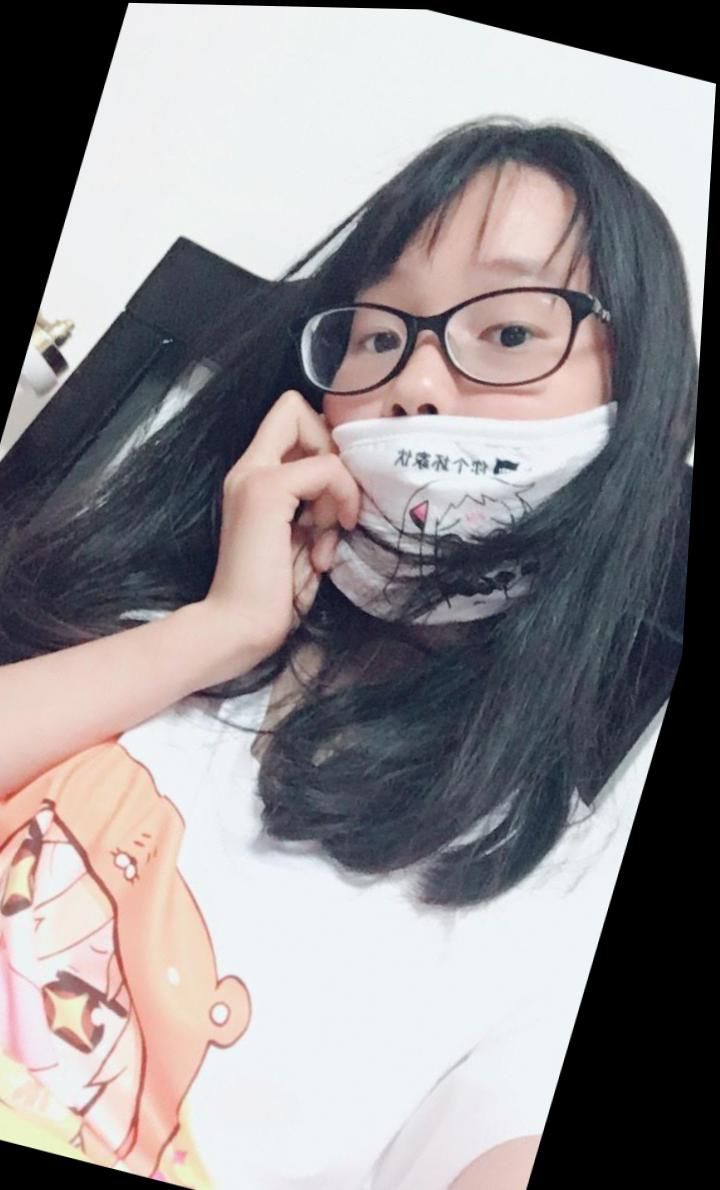WRONG: (272, 183, 669, 617)
